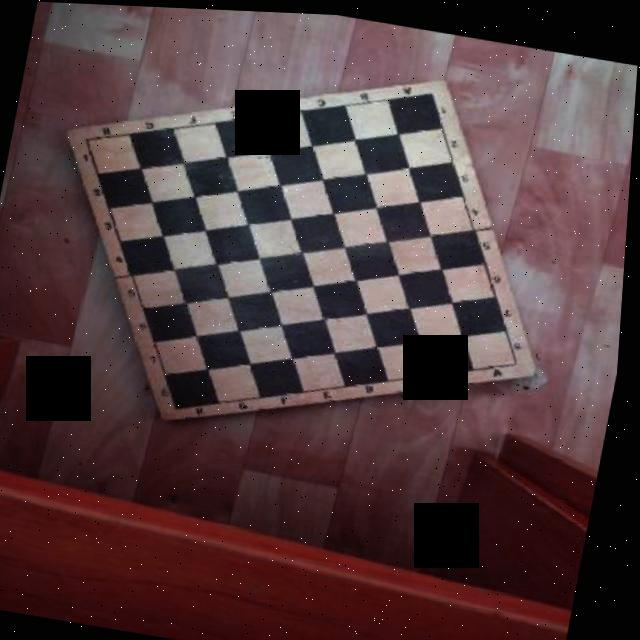chess-table-corners: (497, 339, 541, 376), (68, 121, 112, 158), (410, 72, 453, 106), (161, 389, 202, 423)
